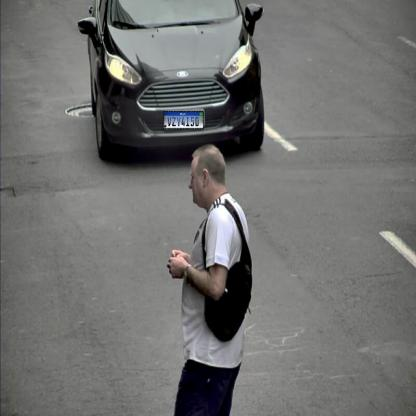PlacaM: (163, 111, 204, 129)
